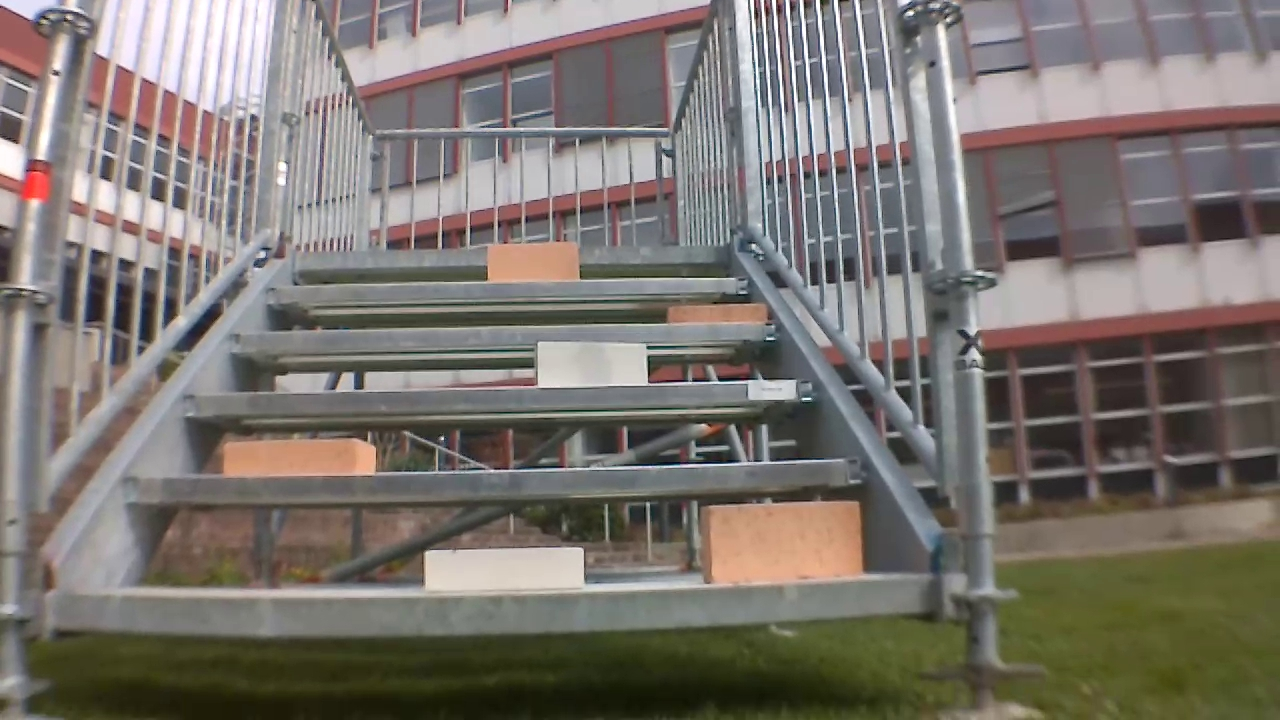brick: (702, 503, 862, 582), (423, 550, 584, 589), (224, 441, 375, 474), (536, 341, 646, 384), (488, 243, 579, 281), (668, 302, 765, 324)
edge: (54, 578, 929, 632), (123, 459, 866, 501), (183, 379, 819, 415), (230, 322, 781, 350), (265, 276, 749, 302), (296, 245, 731, 267)
stairs: (8, 6, 1033, 713)
steps: (53, 236, 935, 649)
